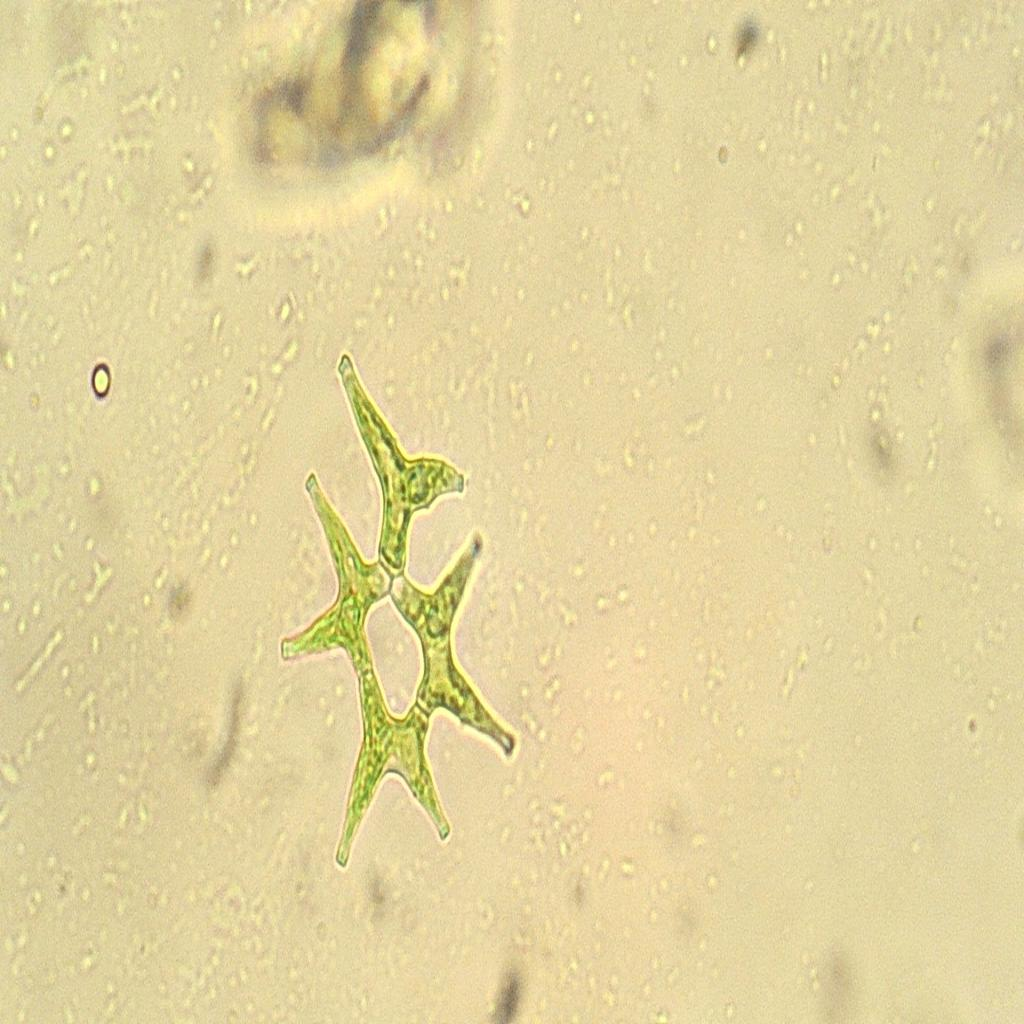Pediastrum_75FI: (269, 342, 524, 920)
